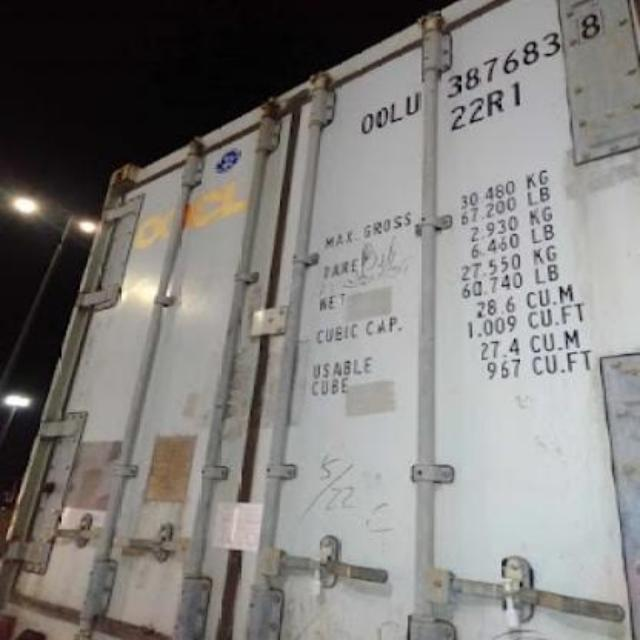3: (540, 26, 562, 60), (444, 66, 462, 100)
6: (500, 44, 520, 78)
7: (480, 50, 498, 86)
8: (576, 12, 608, 40), (522, 36, 542, 68), (462, 62, 480, 94)
L: (386, 99, 404, 131)
O: (356, 106, 374, 138), (372, 102, 388, 134)
U: (402, 88, 422, 122)
